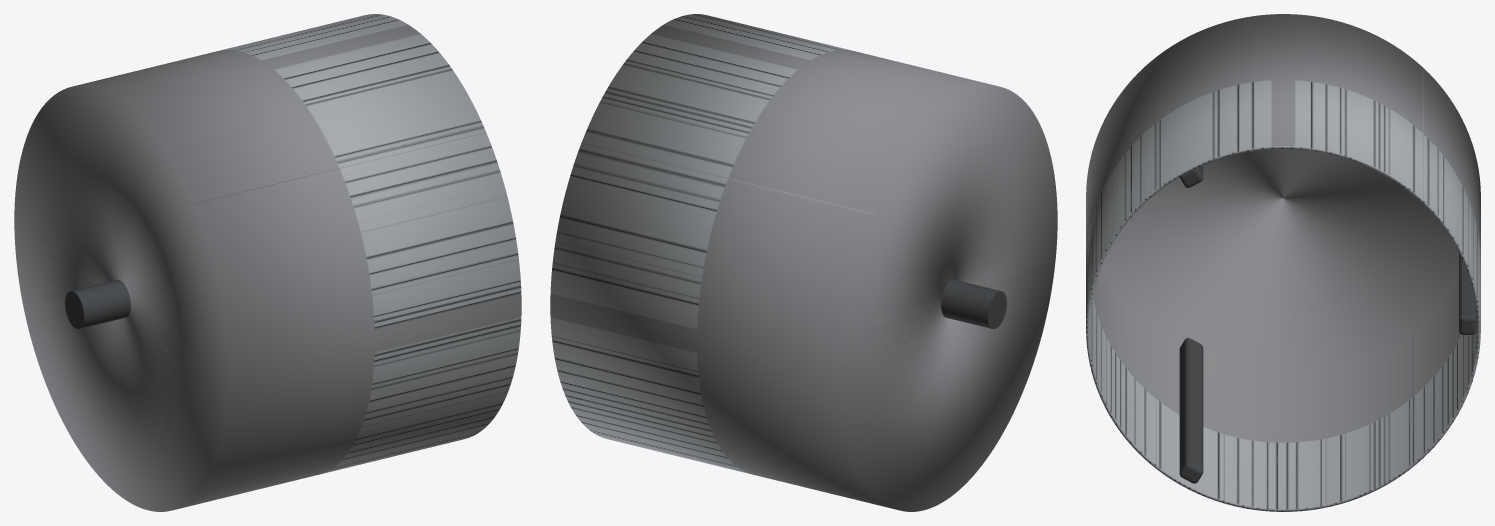
3 renders of one model, left to right at view 1: azimuth 30°, elevation 25°; view 2: azimuth 150°, elevation 25°; view 3: azimuth 270°, elevation 25°, orthographic. The views are drawn at different scales.
Parts seen in each view (by area): view 1: __articraft_commit_0003_0000, __articraft_commit_0003_0004; view 2: __articraft_commit_0003_0000, __articraft_commit_0003_0004; view 3: __articraft_commit_0003_0000, __articraft_commit_0003_0003, __articraft_commit_0003_0001.
Boxes of the visible parts, box(x1,y1,x2,y2) form: __articraft_commit_0003_0000: box(14, 14, 521, 511); __articraft_commit_0003_0004: box(65, 279, 130, 329); __articraft_commit_0003_0000: box(550, 14, 1057, 511); __articraft_commit_0003_0004: box(941, 279, 1006, 329); __articraft_commit_0003_0000: box(1086, 14, 1480, 511); __articraft_commit_0003_0003: box(1179, 338, 1203, 483); __articraft_commit_0003_0001: box(1459, 252, 1476, 334).
Size of the model in its own units: 0.3211 by 0.358 by 0.3501.
2 materials, 1 textured.
